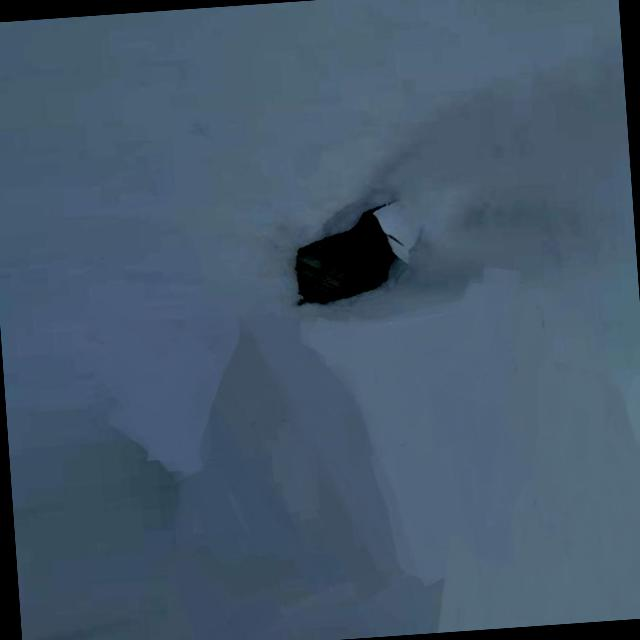crack: (364, 196, 422, 270)
surface_peeling: (287, 184, 434, 306)
